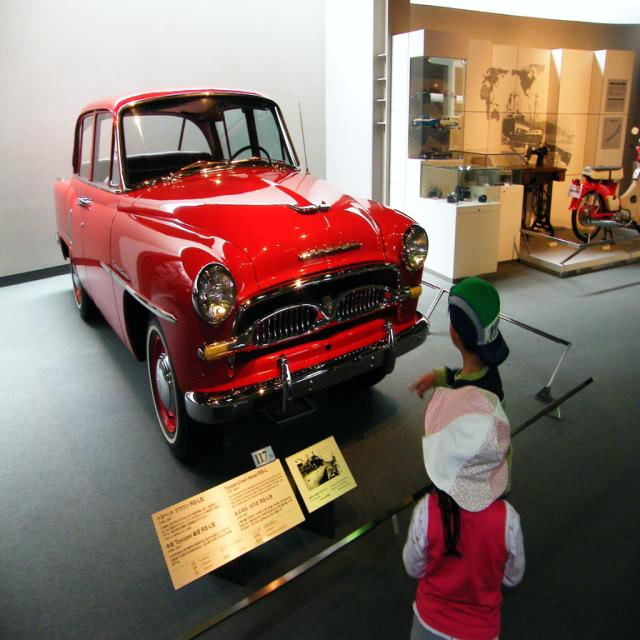car: (50, 80, 430, 452)
